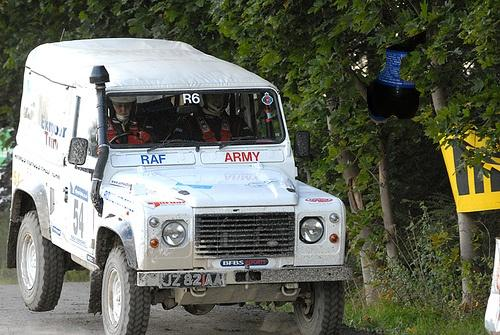tampered: (367, 29, 426, 123)
